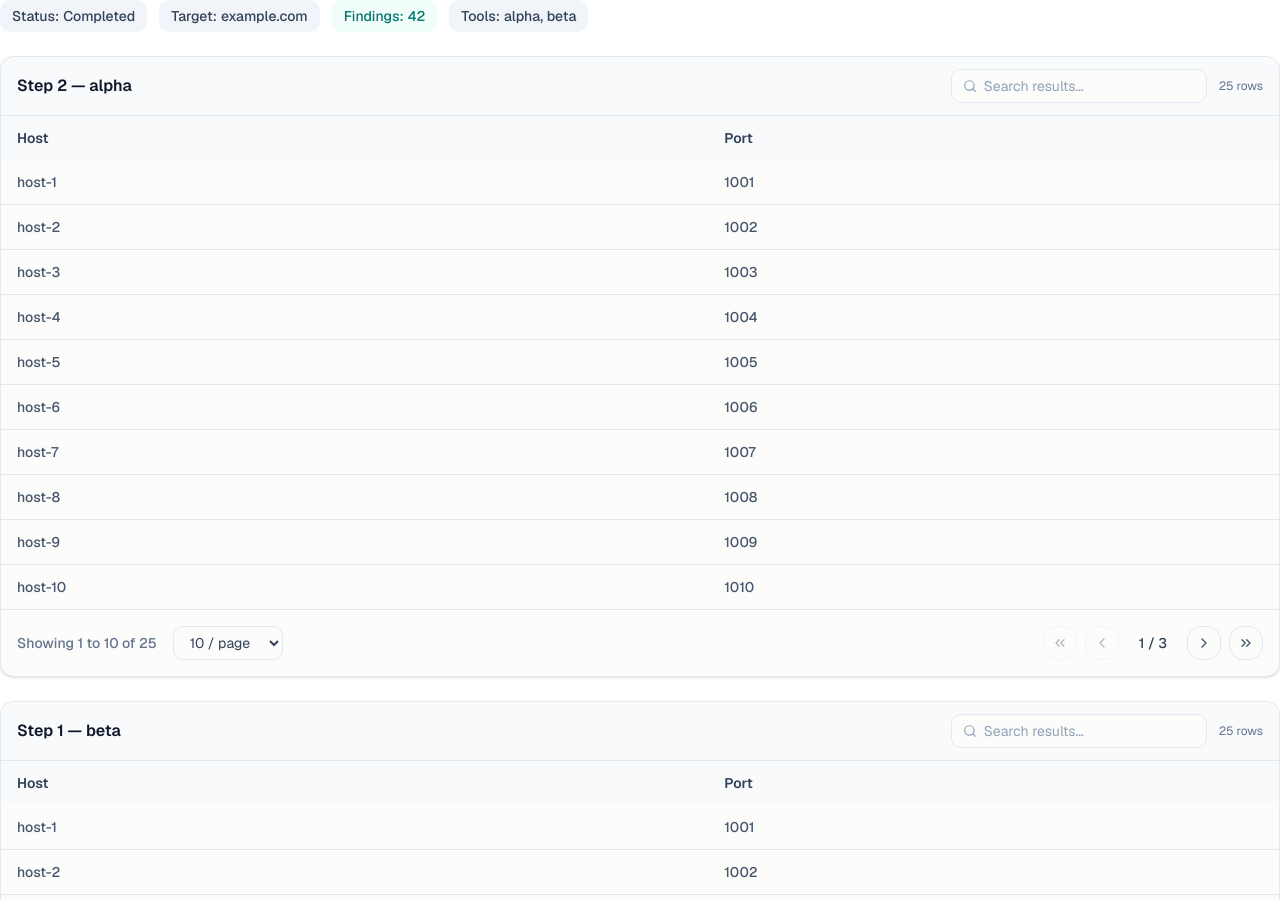
Test: ScanResultsView — independent per-step state (Req 5.6) › changing one step's page does not affect another step
# Advance step-a (order 2) to page 2.
Click the button named "Next page".
click(1204, 643)  # box [1187,626,1221,660]
(page scrolled)
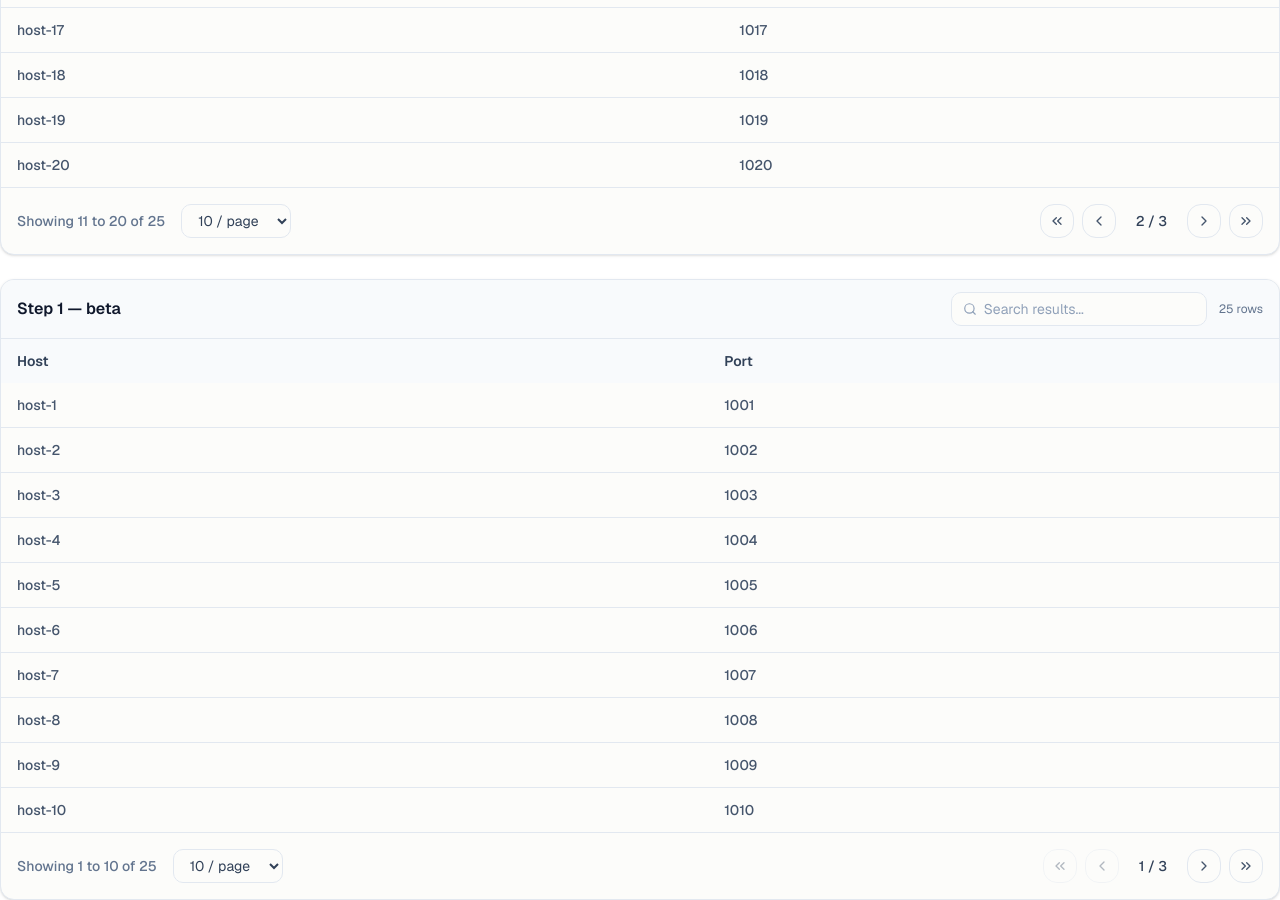
Expected: the text "1 / 3" is shown, [1139,857,1167,875]
Result: the text "2 / 3" is shown at [1136,212,1167,230]
